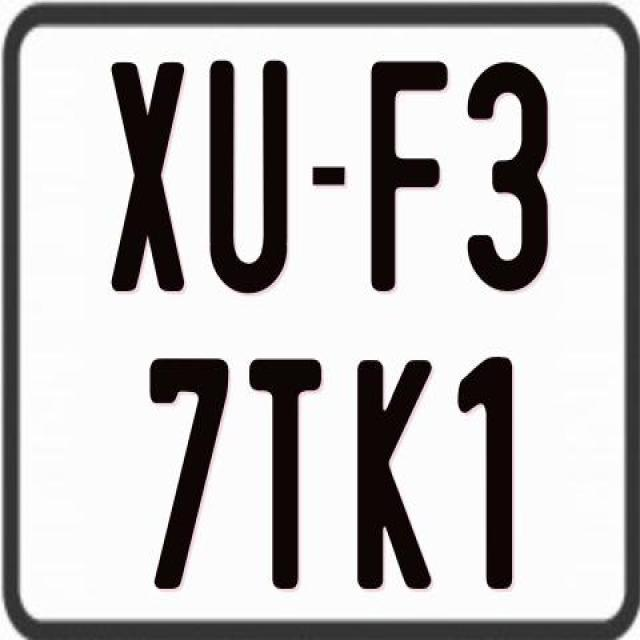1: (454, 354, 514, 590)
3: (466, 63, 554, 294)
7: (145, 357, 228, 589)
F: (370, 58, 454, 298)
K: (357, 355, 439, 587)
T: (247, 357, 326, 589)
U: (207, 58, 286, 296)
X: (108, 61, 186, 296)
